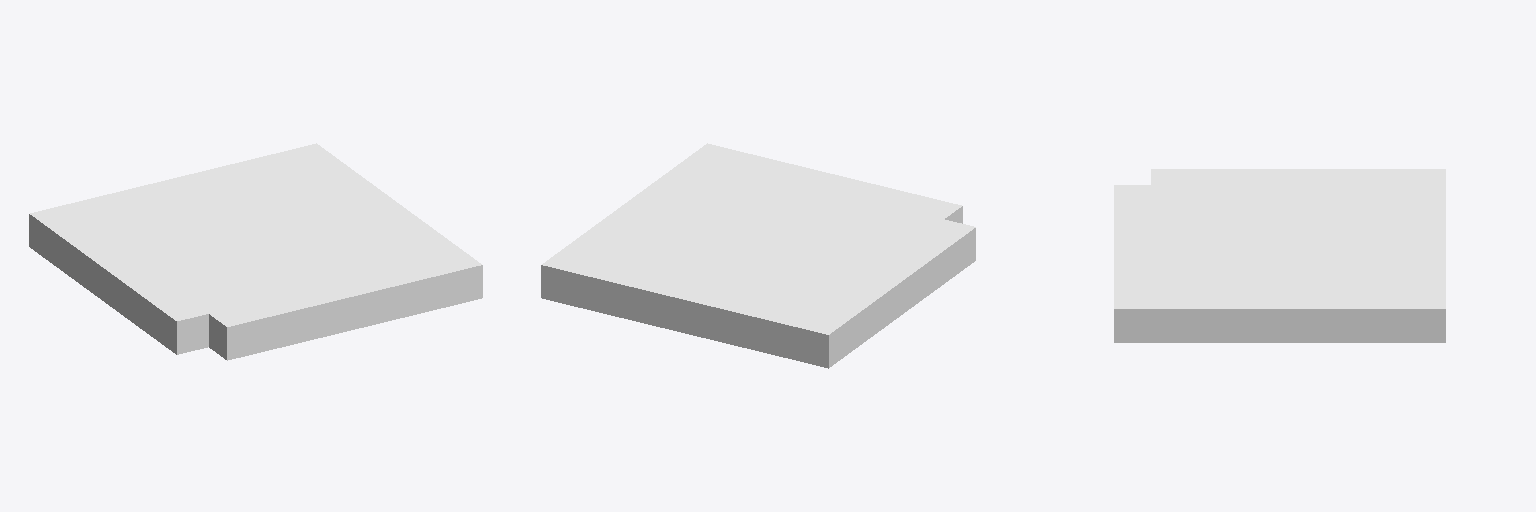
The model's file is Foliage_Set-20.obj.
3 renders of one model, left to right at view 1: azimuth 30°, elevation 25°; view 2: azimuth 150°, elevation 25°; view 3: azimuth 270°, elevation 25°, orthographic.
Parts seen in each view (by area): view 1: object 1; view 2: object 1; view 3: object 1.
Part boxes in pixels (x1,y1,x2,y2): object 1: (29, 143, 482, 360); object 1: (541, 143, 975, 368); object 1: (1114, 169, 1445, 342).
Bounding box in the file's own units: 0.9 × 0.1 × 0.9.